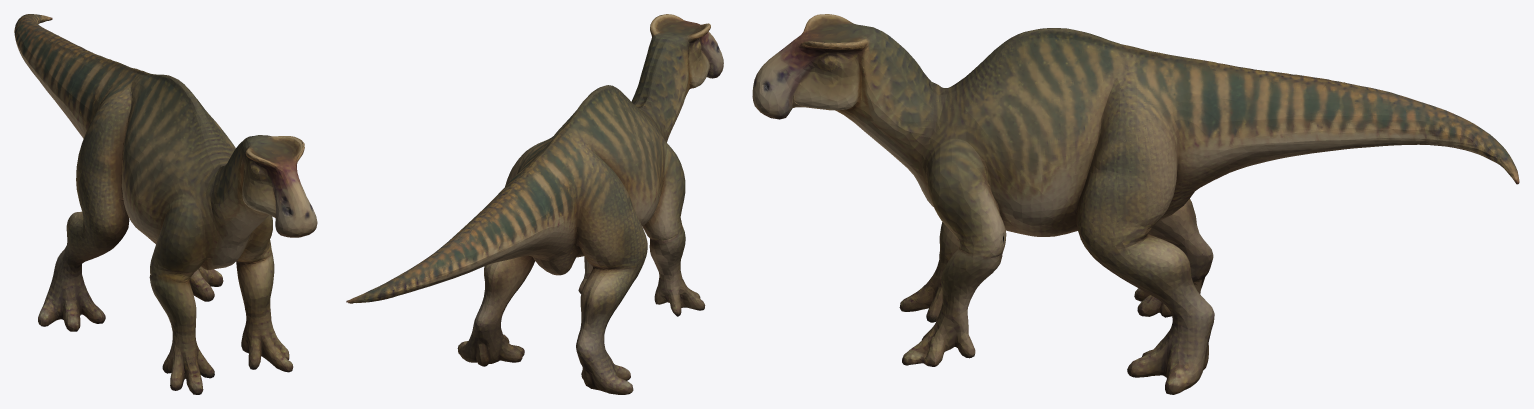
3 views of the same model, side by side, from view 1: azimuth 30°, elevation 25°; view 2: azimuth 150°, elevation 25°; view 3: azimuth 270°, elevation 25° (orthographic). The views are drawn at different scales.
Visible parts, largest first — view 1: world; view 2: world; view 3: world.
Part boxes in pixels (bbox=[...]): world: bbox=[14, 14, 317, 394]; world: bbox=[346, 14, 723, 394]; world: bbox=[752, 14, 1519, 394].
Bounding box in the file's own units: 2.95 × 4.1 × 9.
Materials: 2 (1 with a texture image).
